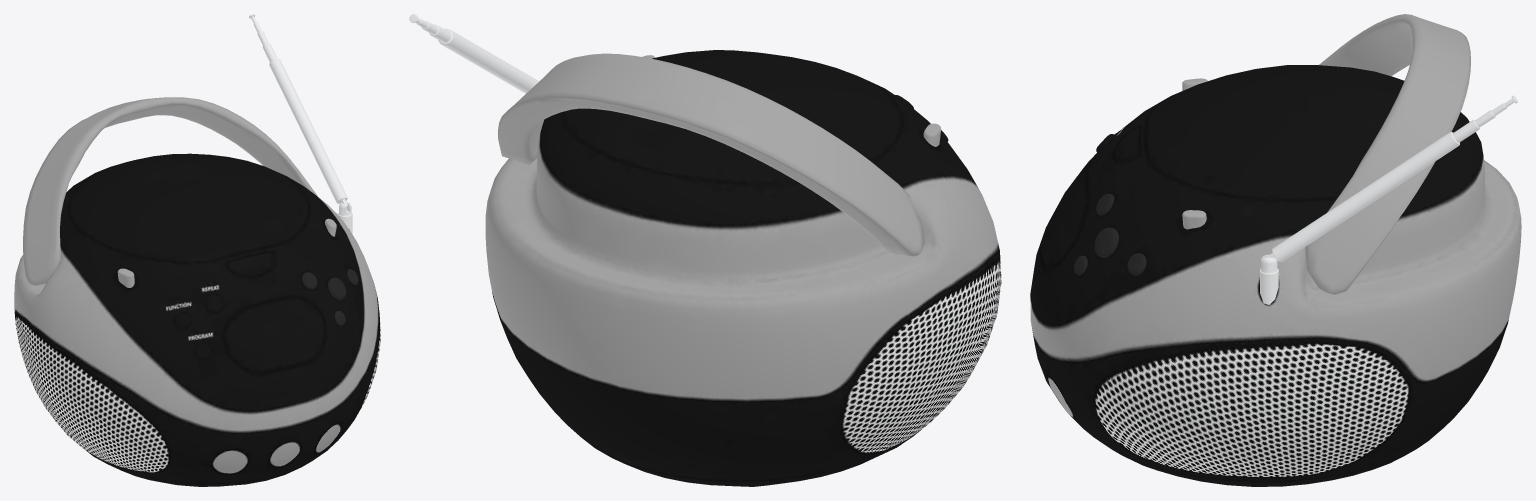
The model's file is boombox.glb.
3 renders of one model, left to right at view 1: azimuth 30°, elevation 25°; view 2: azimuth 150°, elevation 25°; view 3: azimuth 270°, elevation 25°, orthographic. The views are drawn at different scales.
Parts seen in each view (by area): view 1: BoomBox; view 2: BoomBox; view 3: BoomBox.
Boxes of the visible parts, box(x1,y1,x2,y2) form: BoomBox: box(14, 14, 380, 486); BoomBox: box(409, 14, 1001, 486); BoomBox: box(1030, 14, 1521, 486).
Bounding box in the file's own units: 0.0198 × 0.0195 × 0.0202.
Materials: 1 (1 with a texture image).
